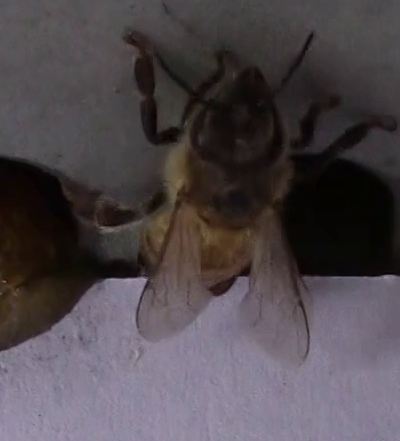Varroa destructor: (209, 274, 237, 296)
